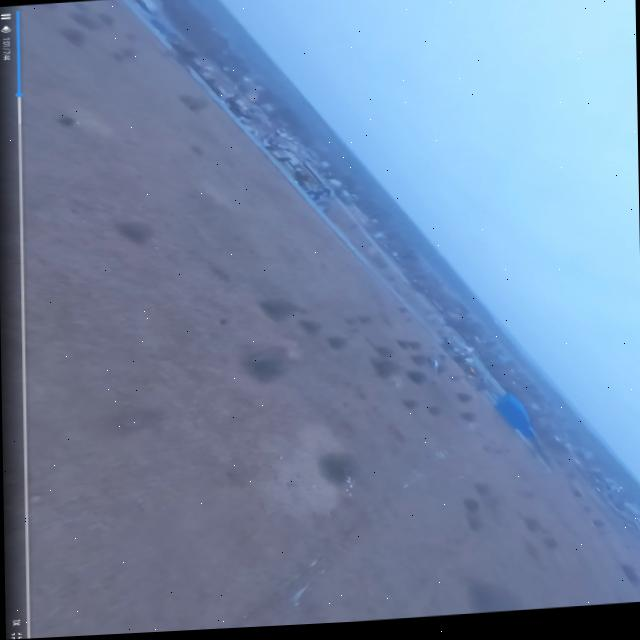planedrone: (428, 347, 443, 387)
